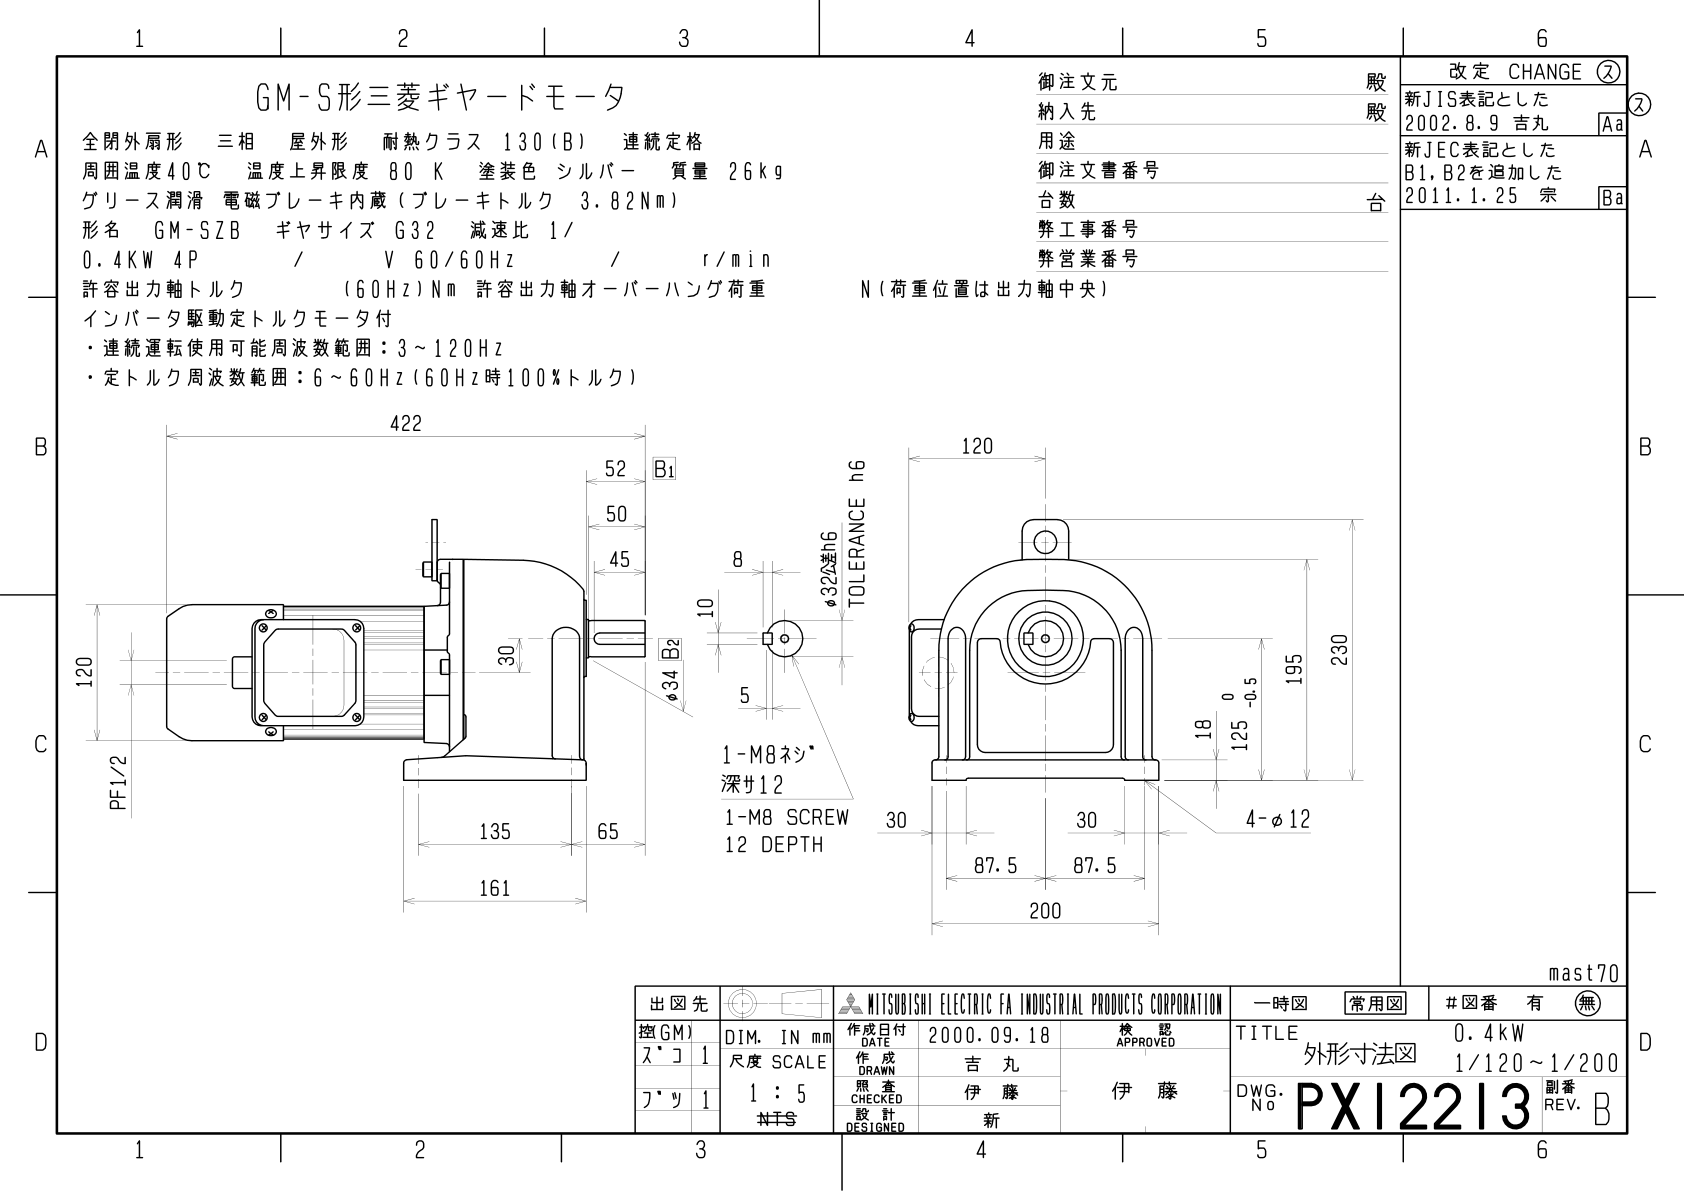GM_S_インバタ屋外＿三相_脚: (61, 400, 1375, 937)
